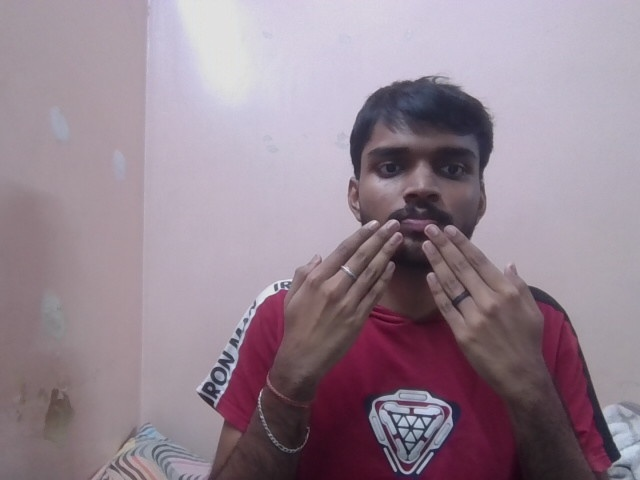Thank You: (291, 216, 550, 384)
